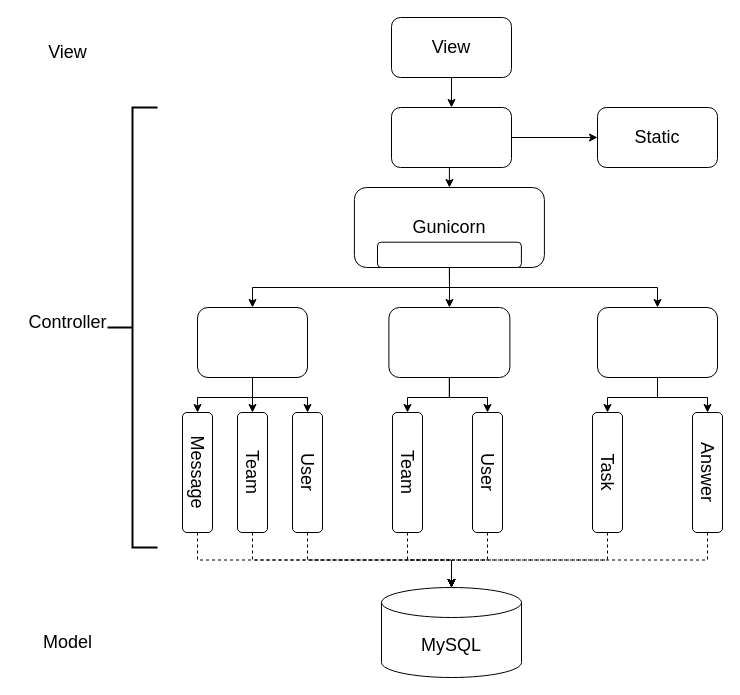
This 740x695 diagram has some shape labels left out. The shapes that lost their labels are listed below. From the top down, each one's centre as x and y in pixels, then its label:
At point 451,137: "Nginx".
At point 448,254: "Django".
At point 252,342: "Common".
At point 449,342: "Rank".
At point 657,342: "Tasks".
